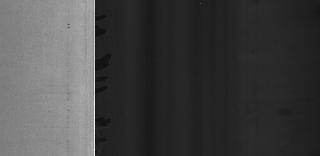oil spot: (61, 87, 71, 155), (65, 21, 73, 31)
